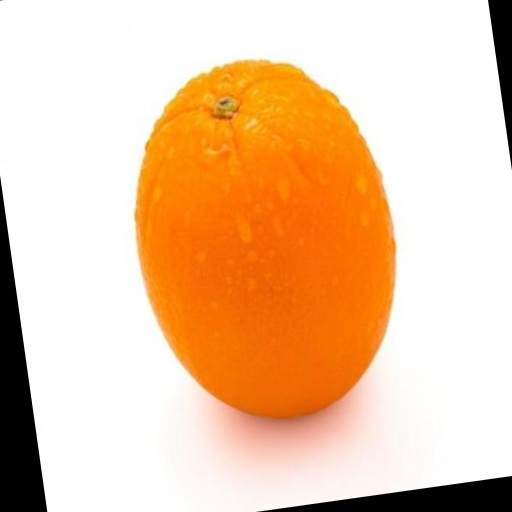fruit: (135, 61, 394, 417)
